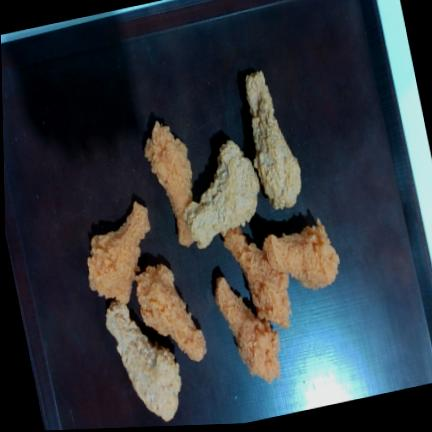chicken: (106, 300, 181, 420), (184, 140, 260, 248), (246, 71, 301, 209), (135, 264, 206, 361), (215, 277, 280, 382), (224, 227, 291, 328), (88, 201, 151, 304), (145, 121, 194, 247), (264, 218, 340, 289)
